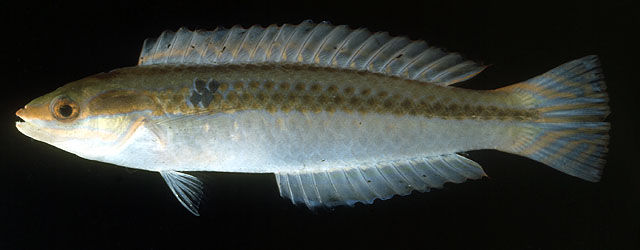fish: (14, 18, 609, 217)
